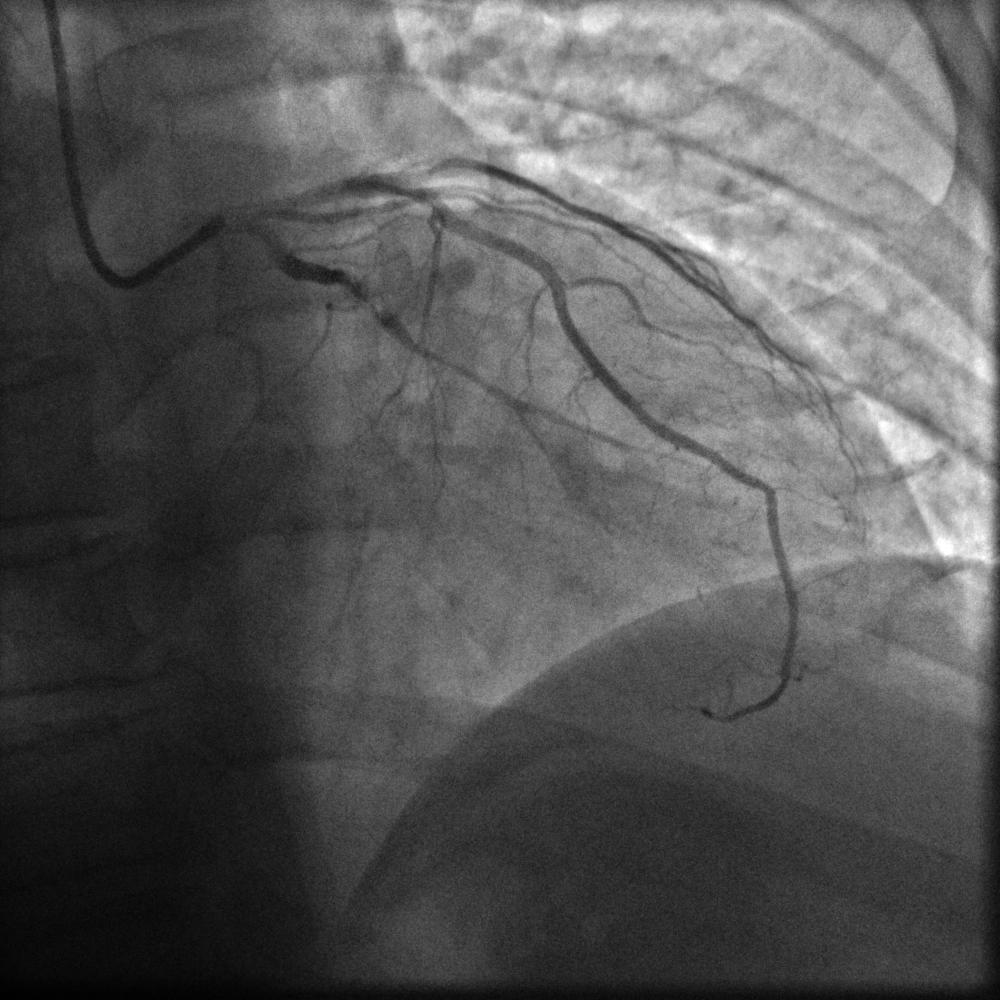Stenosis: (342, 270, 397, 331)
